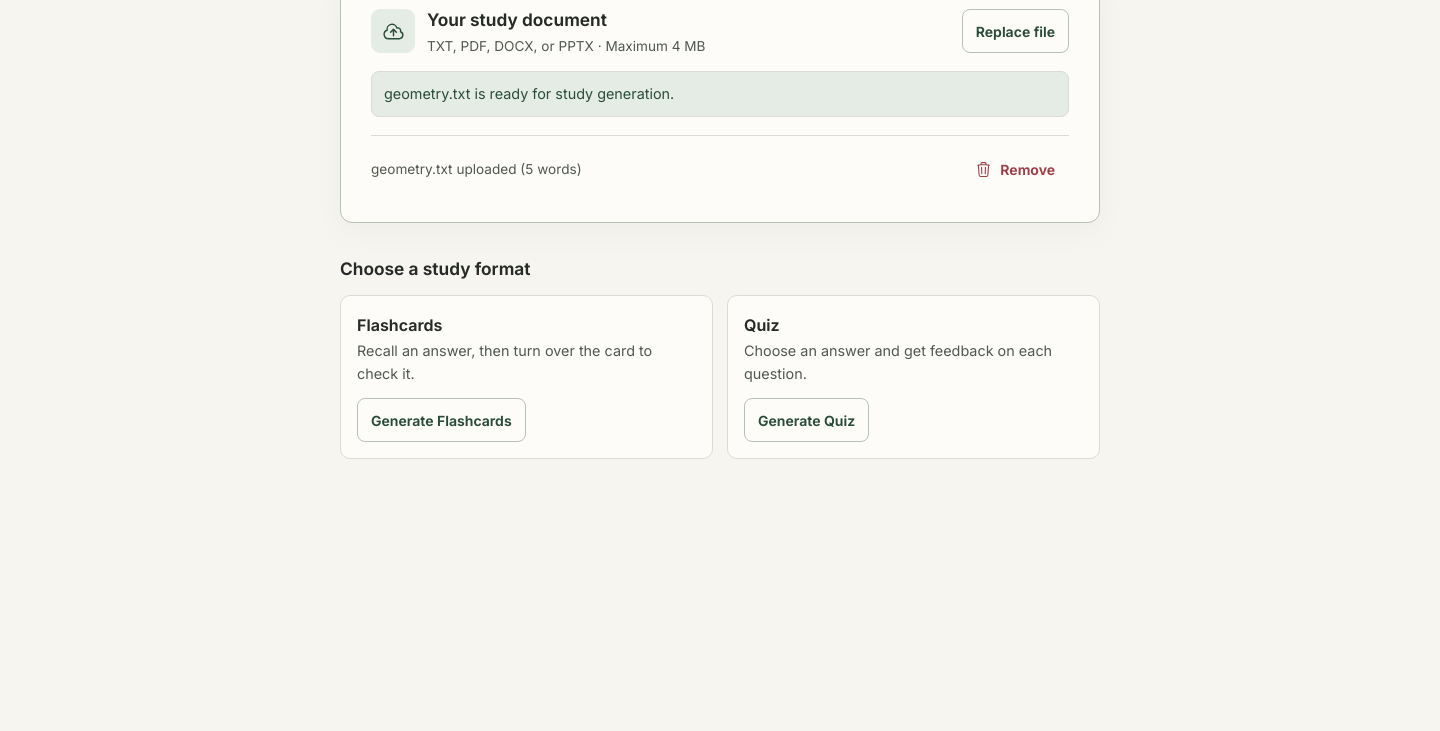
Test: quiz feedback and selection remain available when revisiting an answered question
Earlier steps of the test are not shown.
Expected: the text "geometry.txt uploaded (5 words)" is shown, [371,158,582,181]
Click the button "Generate Quiz" at [807, 420], box [744,398,869,442]
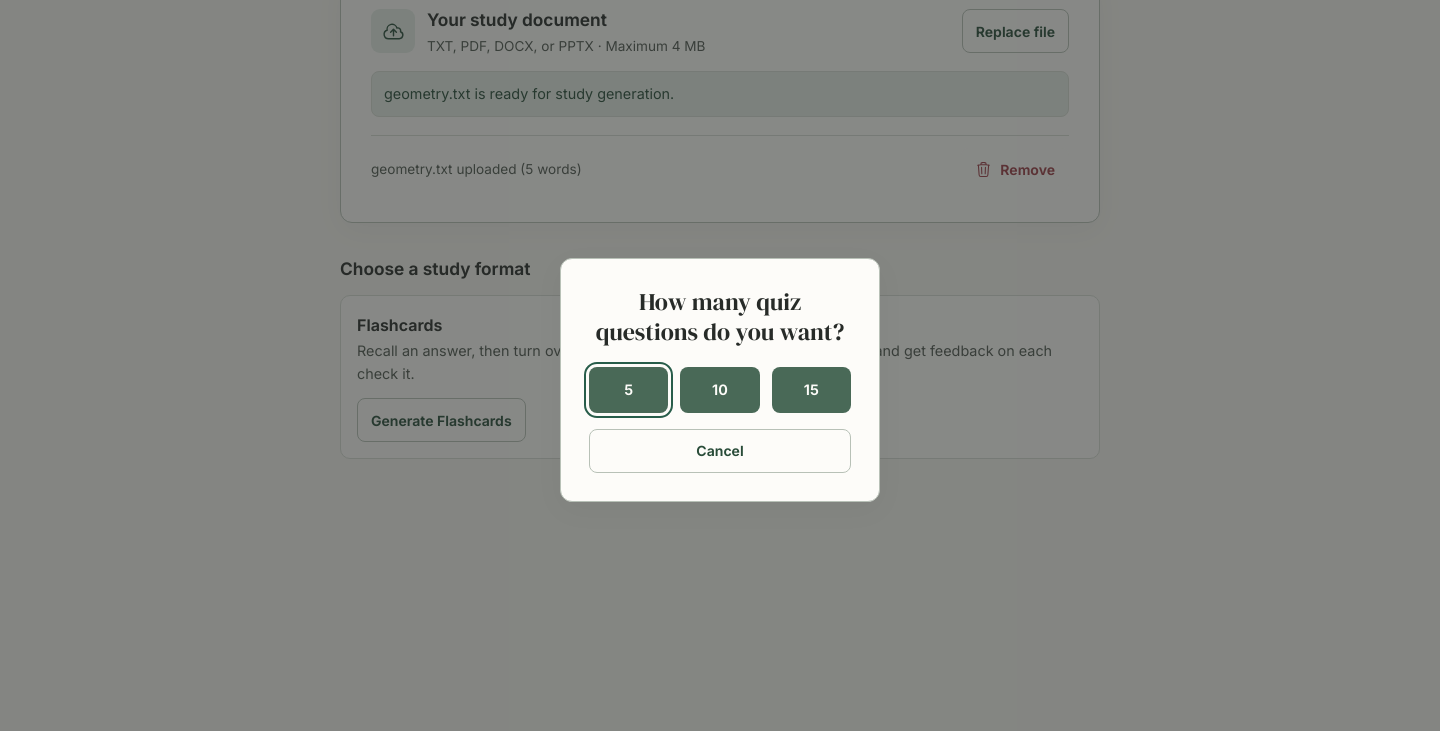
Click the button "5" at [629, 390], box [589,367,668,413]
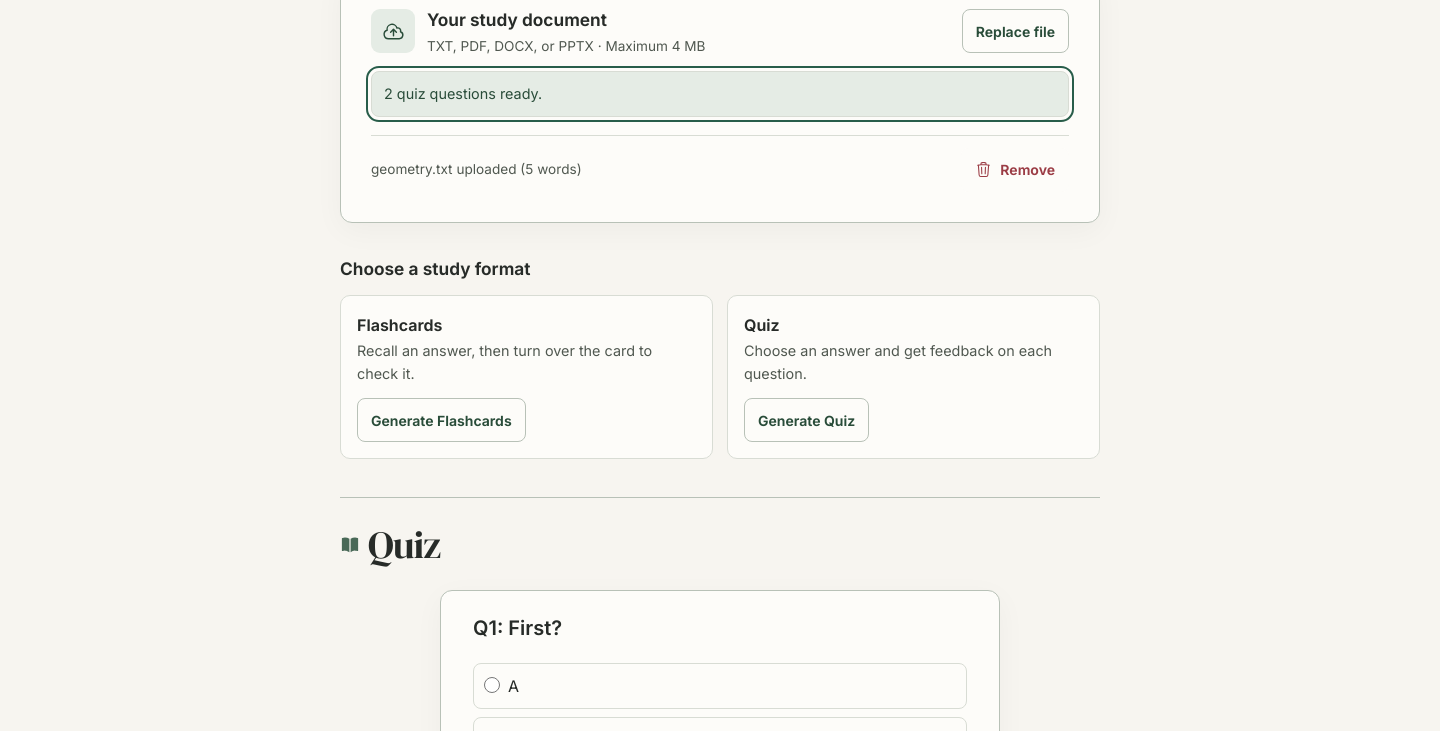
Click the radio button labelled "A" at [492, 685], box [484,677,500,693]
(page scrolled)
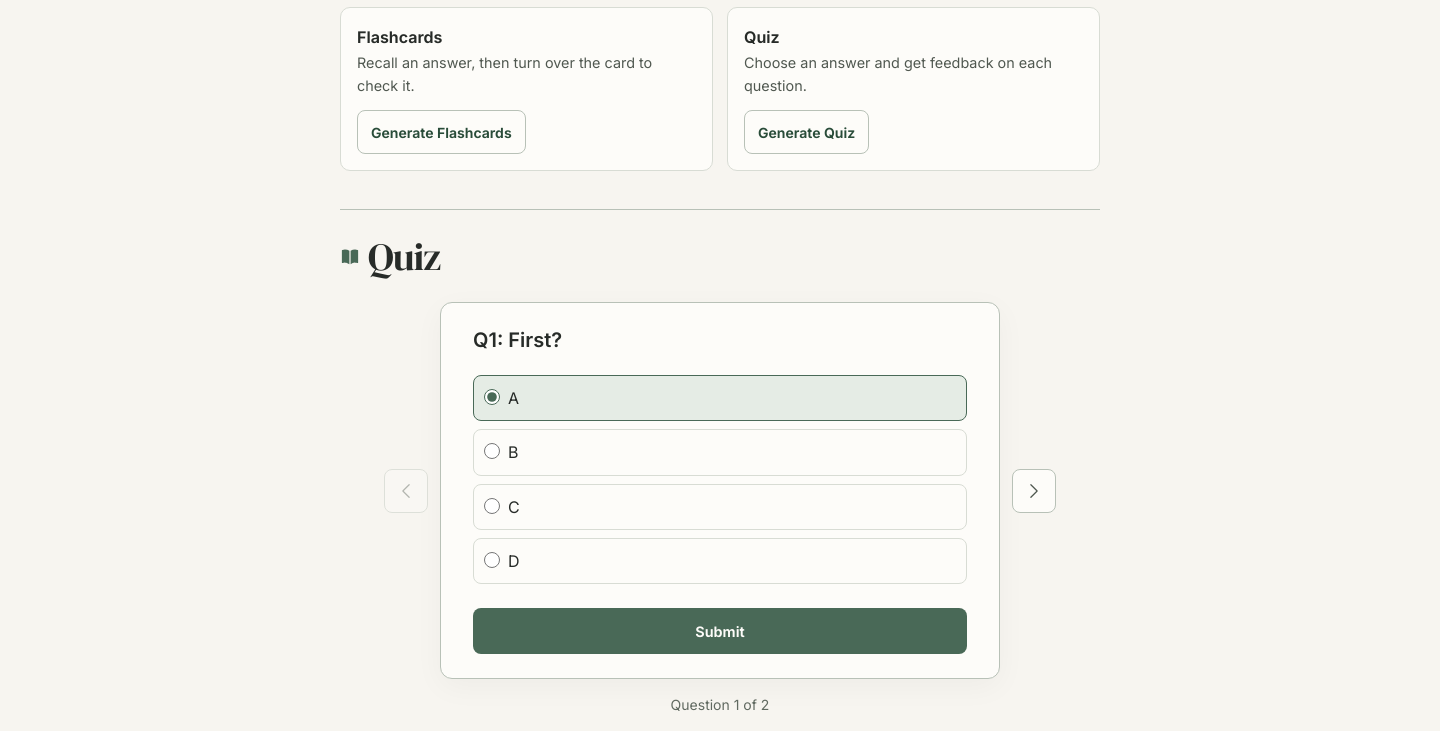
Submit the form, box [440,302,1000,679]
(page scrolled)
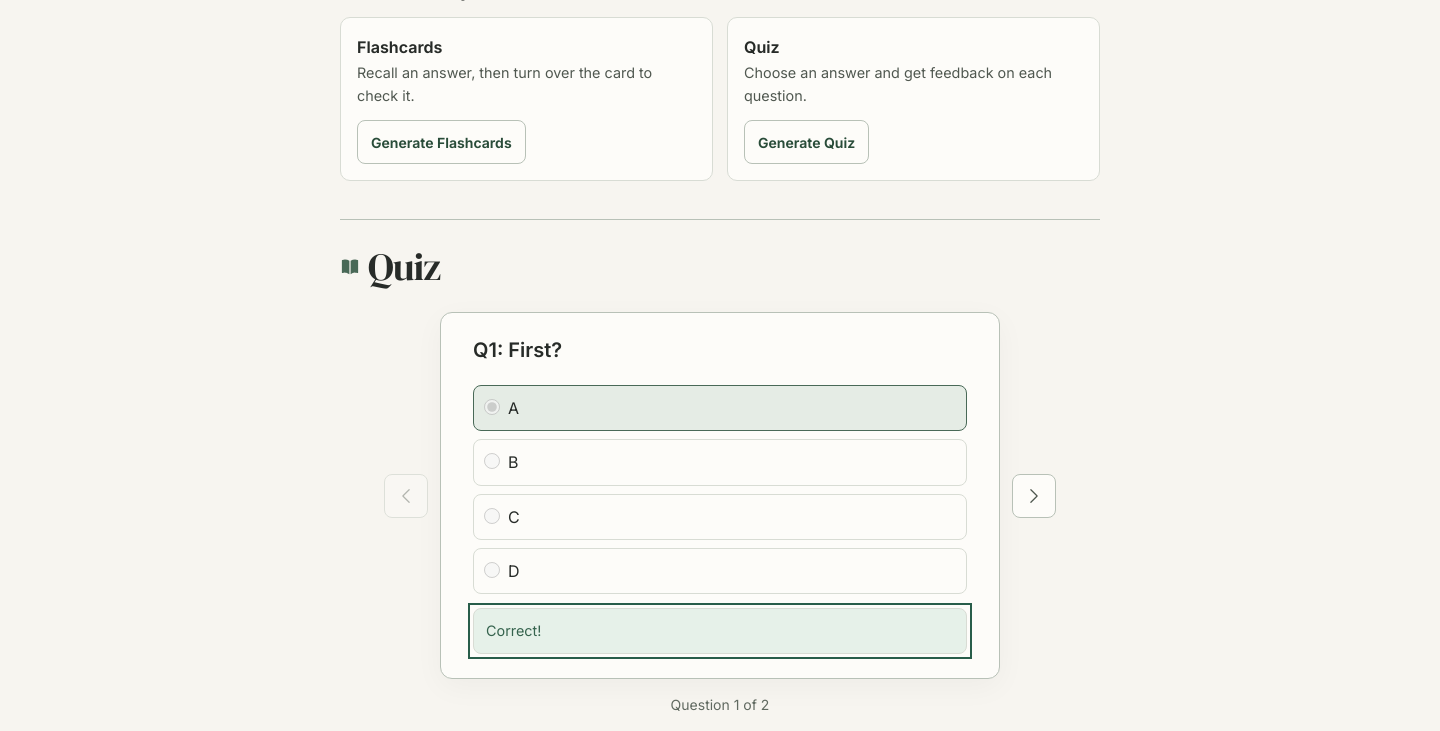
Expected: the message "Correct!" is shown, [473,608,967,654]
Click the button named "Next question" at [1034, 496], box [1012,474,1056,518]
(page scrolled)
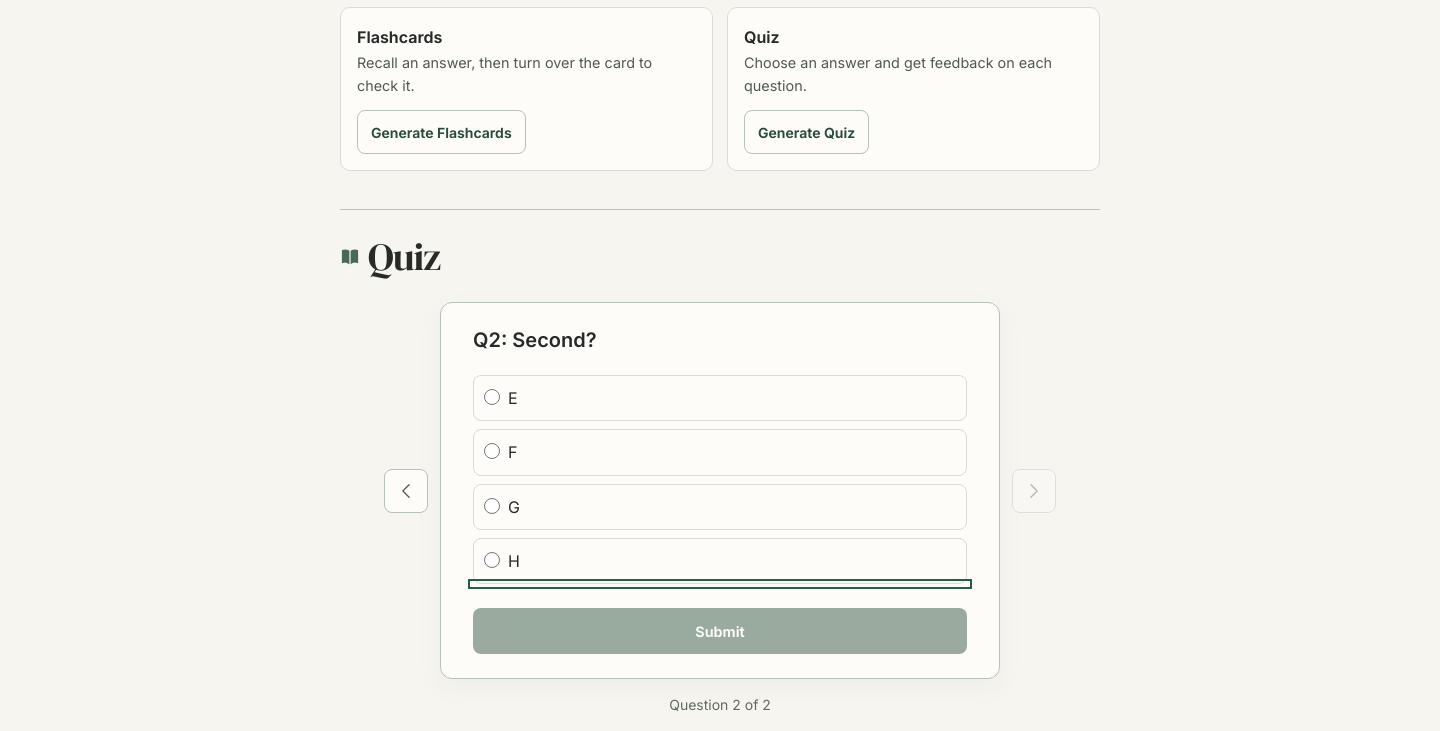
Click the button named "Previous question" at [406, 491], box [384,469,428,513]
(page scrolled)
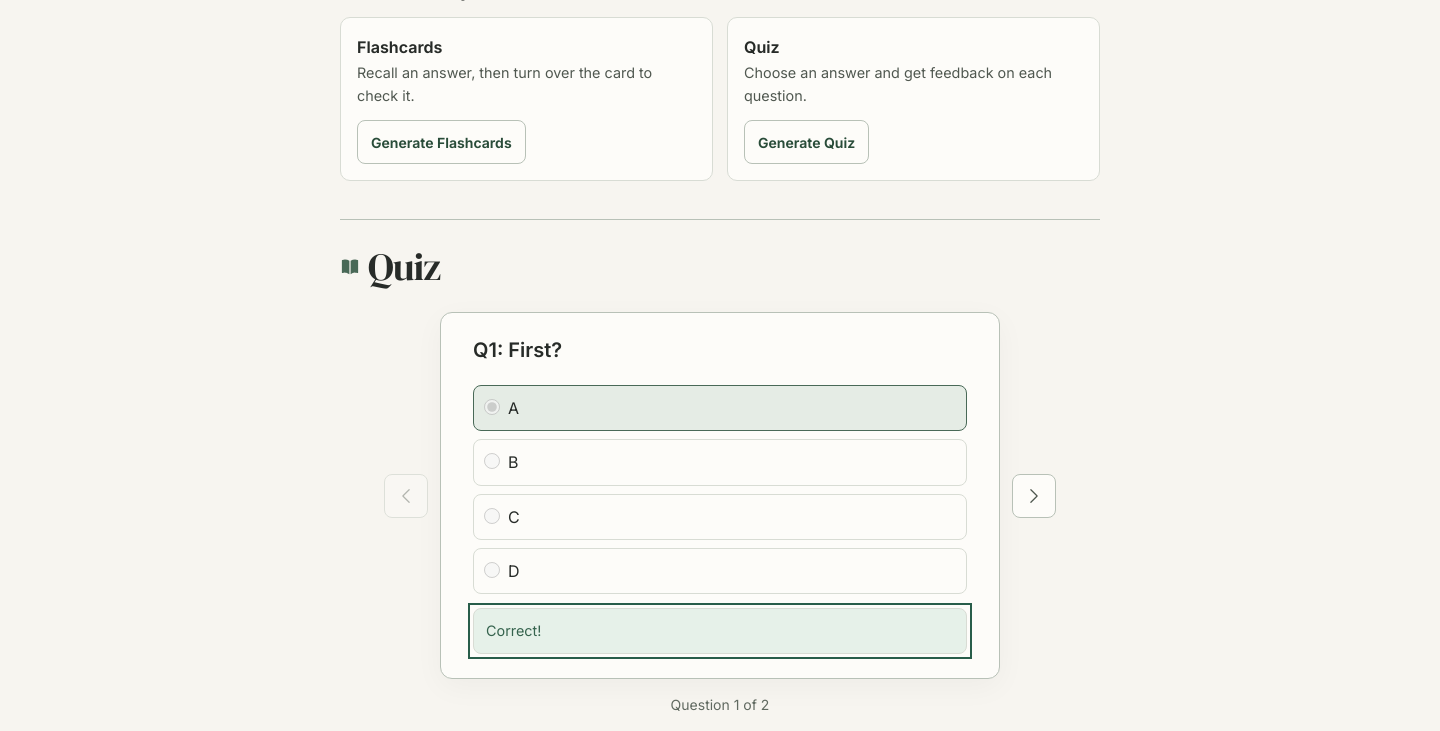
Expected: the radio button labelled "A" is checked, [484,399,500,415]
Expected: the text "Correct!" is shown, [473,608,967,654]
